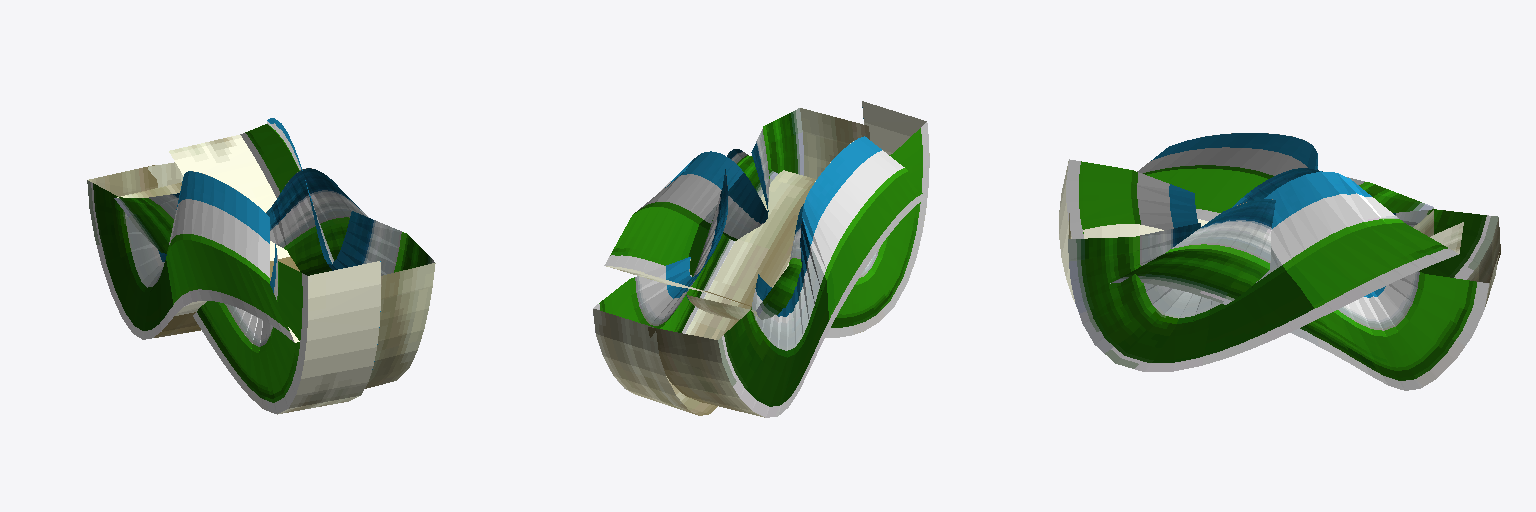
The picture shows the model from 3 angles: view 1: azimuth 30°, elevation 25°; view 2: azimuth 150°, elevation 25°; view 3: azimuth 270°, elevation 25°; orthographic projection.
Visible parts, largest first — view 1: polygon3, polygon2, polygon0, polygon1; view 2: polygon3, polygon1, polygon0, polygon2; view 3: polygon0, polygon1, polygon3, polygon2.
Part boxes in pixels (left/top/right/bottom): polygon3: left=87, top=165, right=299, bottom=342; polygon2: left=114, top=182, right=380, bottom=414; polygon0: left=169, top=118, right=435, bottom=388; polygon1: left=148, top=162, right=368, bottom=275; polygon3: left=648, top=136, right=925, bottom=417; polygon1: left=593, top=149, right=816, bottom=415; polygon0: left=604, top=108, right=869, bottom=306; polygon2: left=686, top=101, right=929, bottom=337; polygon0: left=1068, top=171, right=1463, bottom=371; polygon1: left=1110, top=199, right=1499, bottom=390; polygon3: left=1083, top=133, right=1500, bottom=282; polygon2: left=1059, top=159, right=1433, bottom=301.
Bounding box in the file's own units: 6.83 × 8.97 × 16.81.
1 materials, 1 textured.